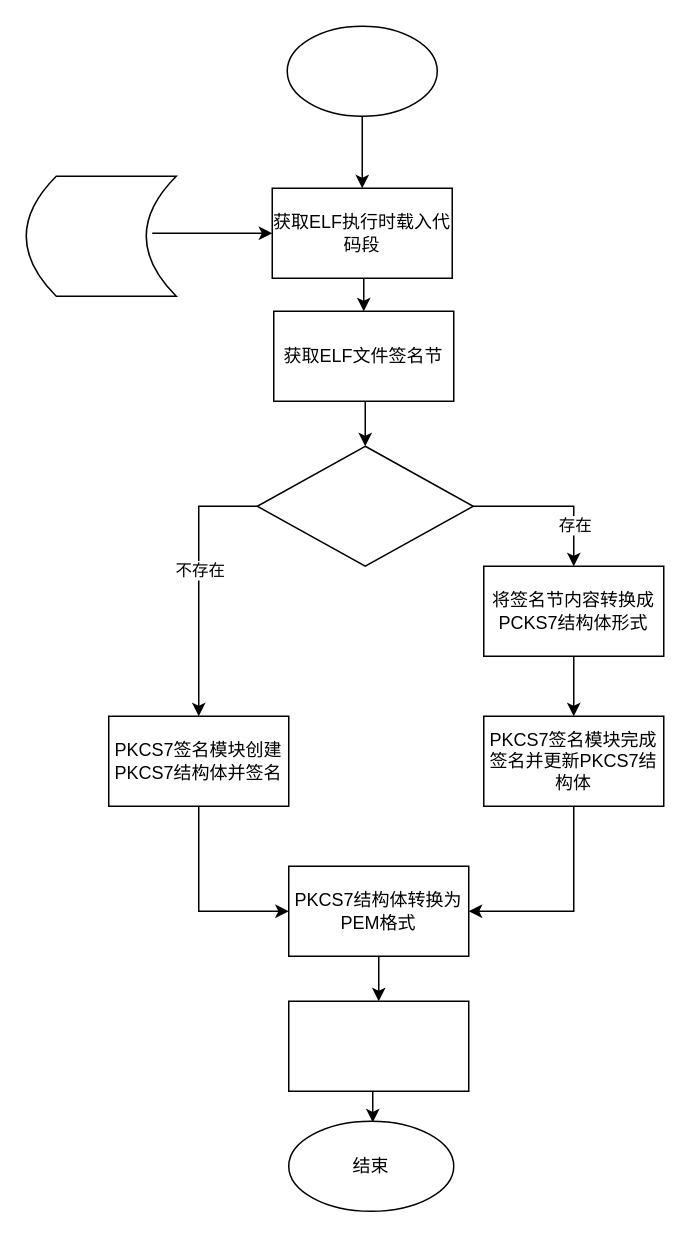
Some shapes in this 690 by 1238 pixel diagram are drawn without their labels. Each missing label, with the centre of its shape:
elf文件: pixel 100 235
开始: pixel 361 70
是否存在签名节: pixel 364 505
附加转换后PEM格式数据到ELF文件节中: pixel 378 1045
